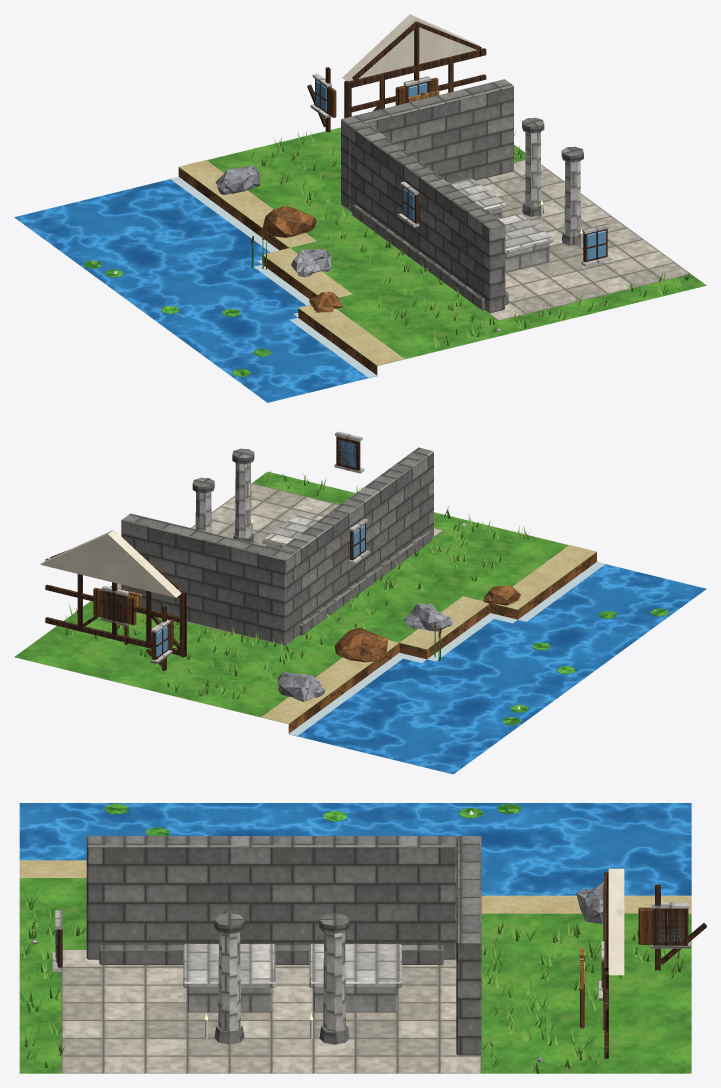
File: chunk_4_6.glb
3 views of the same model, one above another, from view 1: azimuth 30°, elevation 25°; view 2: azimuth 150°, elevation 25°; view 3: azimuth 270°, elevation 25° (orthographic). The views are drawn at different scales.
Visible parts, largest first — view 1: chunk_4_6; view 2: chunk_4_6; view 3: chunk_4_6.
Boxes of the visible parts, x1=… form: chunk_4_6: x1=14, y1=14, x2=706, y2=402; chunk_4_6: x1=14, y1=431, x2=706, y2=774; chunk_4_6: x1=18, y1=803, x2=706, y2=1073.
Bounding box in the file's own units: 16.16 × 4.7 × 16.5.
24 materials, 17 textured.
